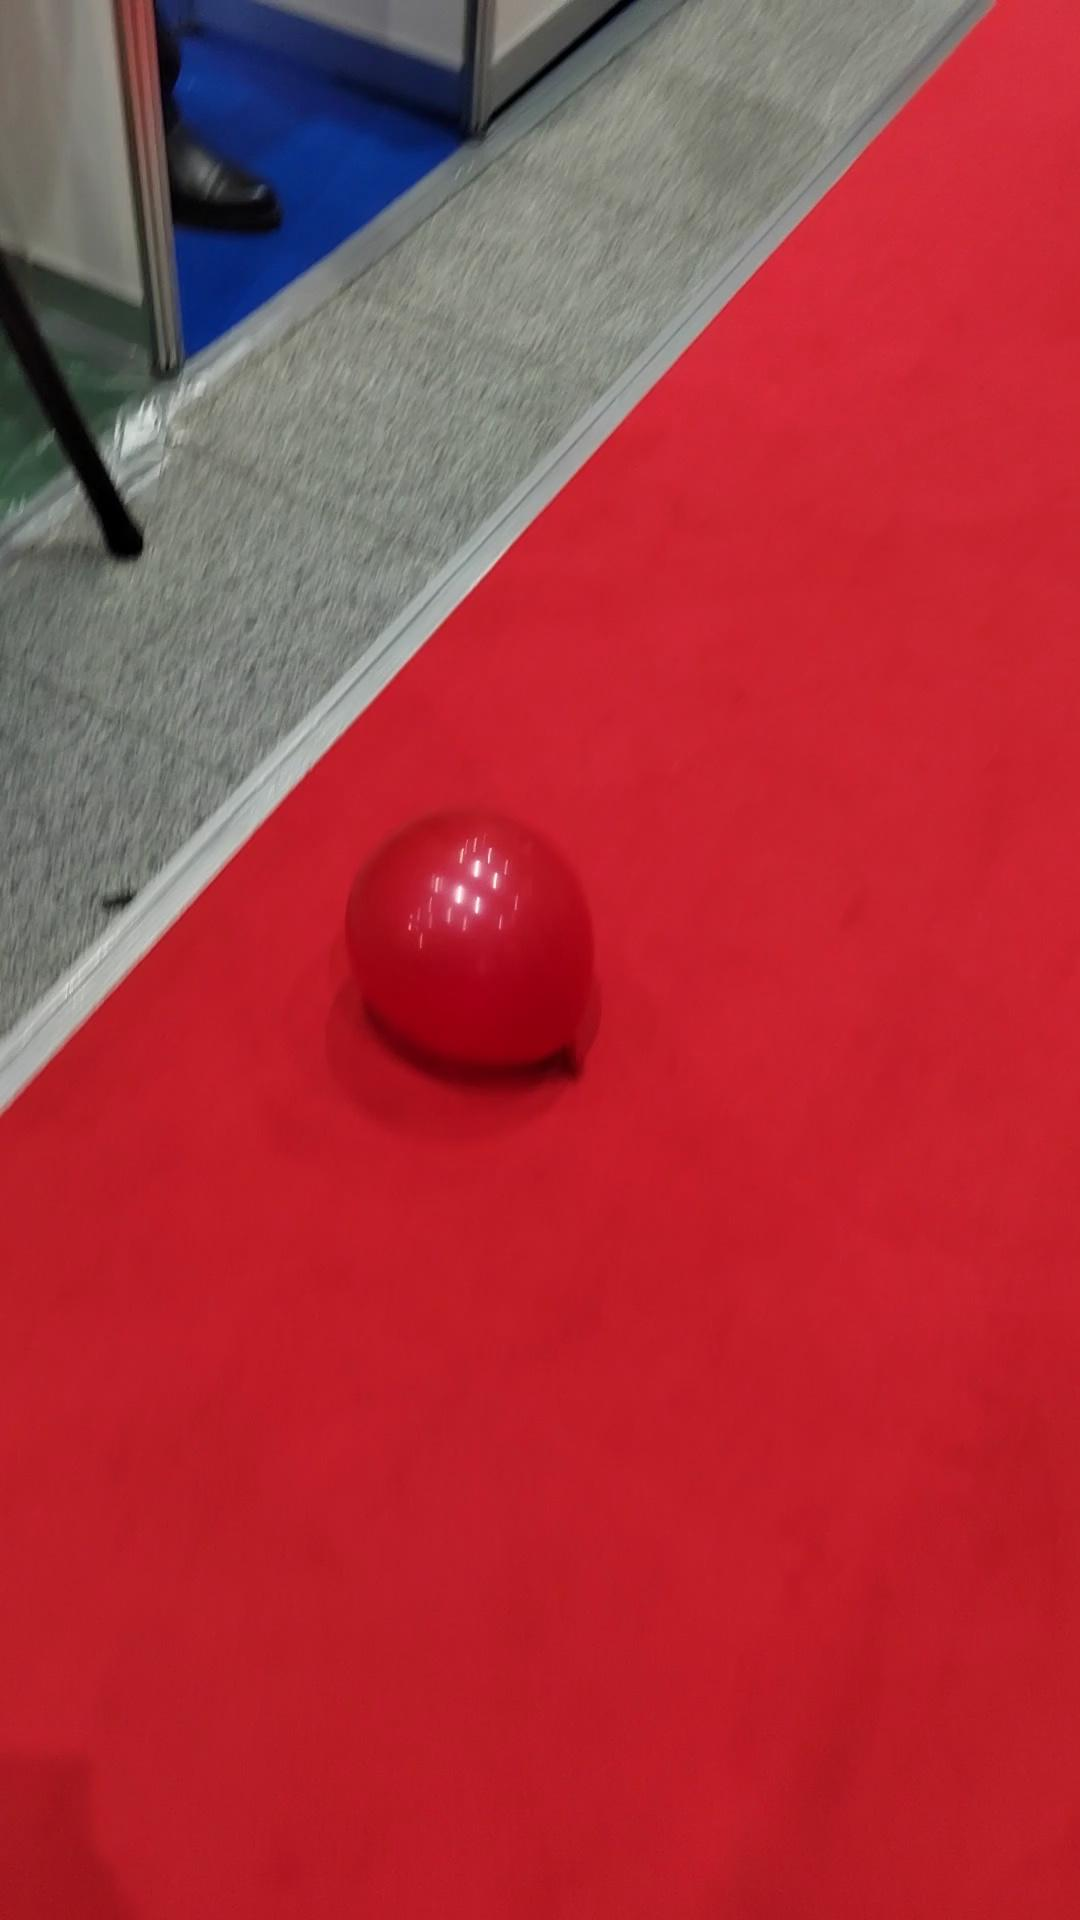red: (343, 807, 596, 1072)
